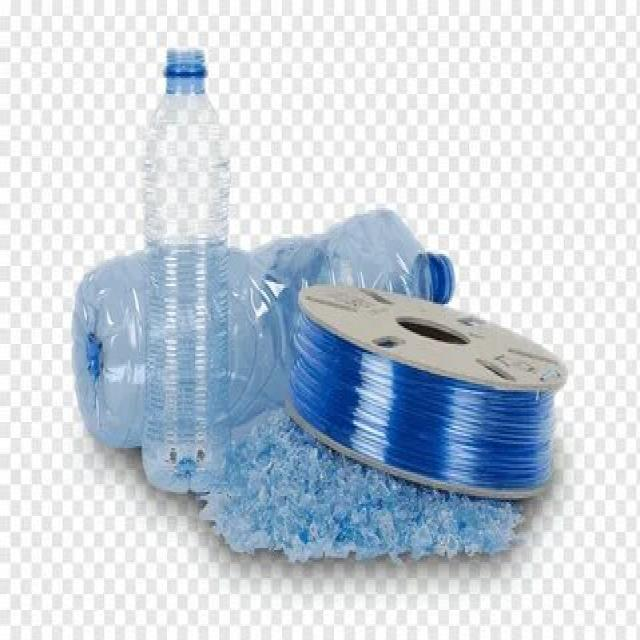blue: (142, 45, 232, 498)
